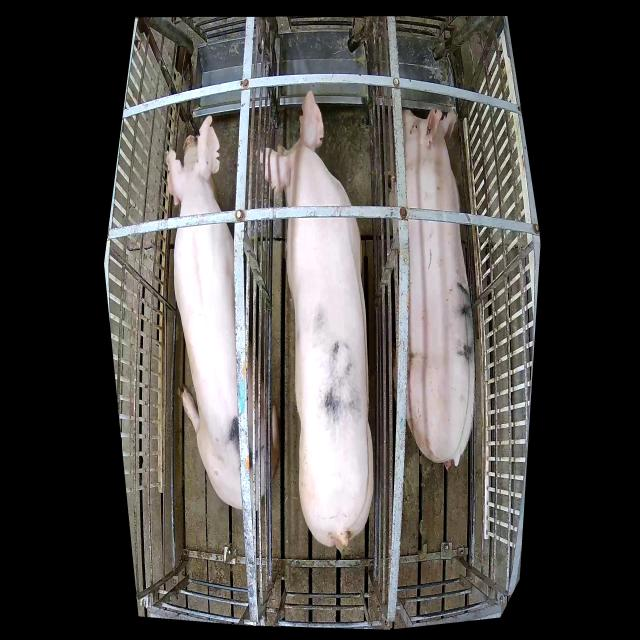pig: (259, 90, 374, 554), (166, 115, 280, 511), (389, 108, 475, 470)
